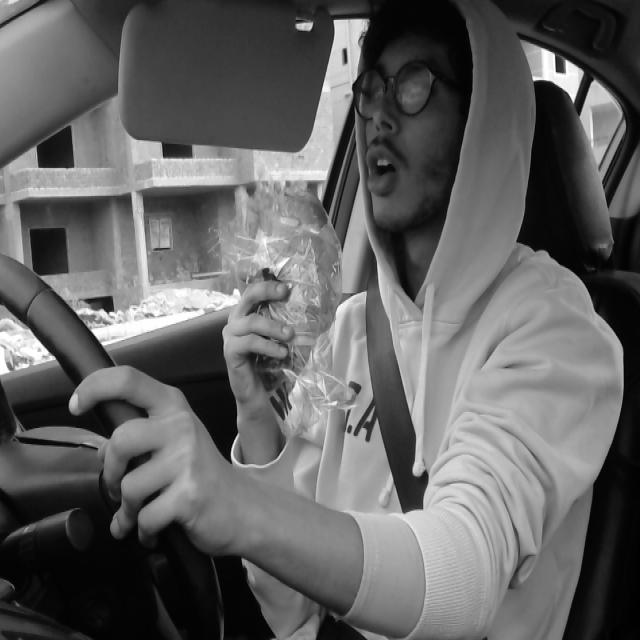eating: (263, 184, 346, 368)
